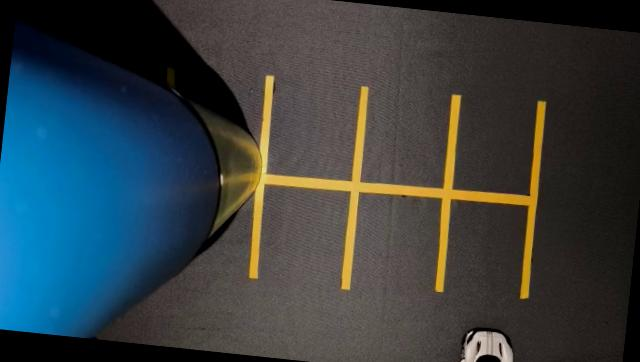toy_car: (427, 305, 537, 362)
